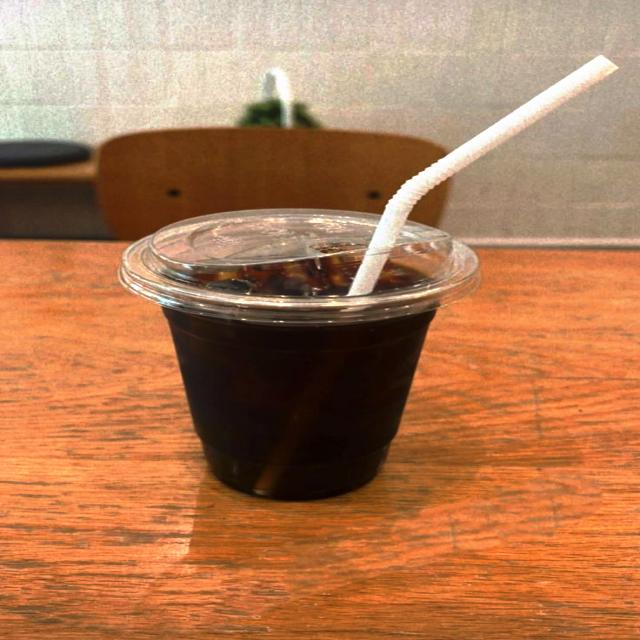drink: (118, 210, 490, 504)
